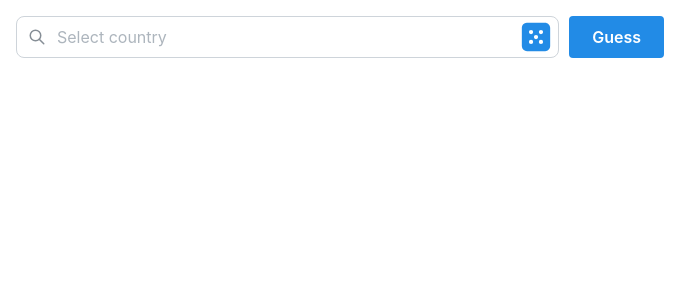
Scenario: <SelectCountry /> guess submission › submits with the Enter key
Type "Spain" into the field.
click(288, 37); type("Spain")  # box left=16, top=16, right=559, bottom=58
Then press Enter
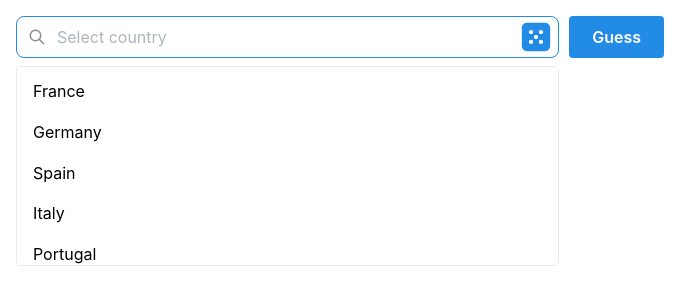
Check: the text "Spain" is shown, box left=33, top=161, right=76, bottom=185
